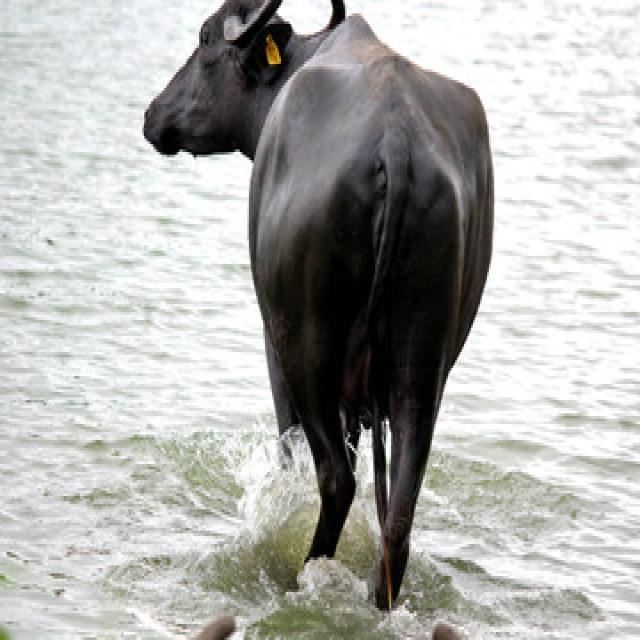Buffalo: (140, 0, 496, 611)
